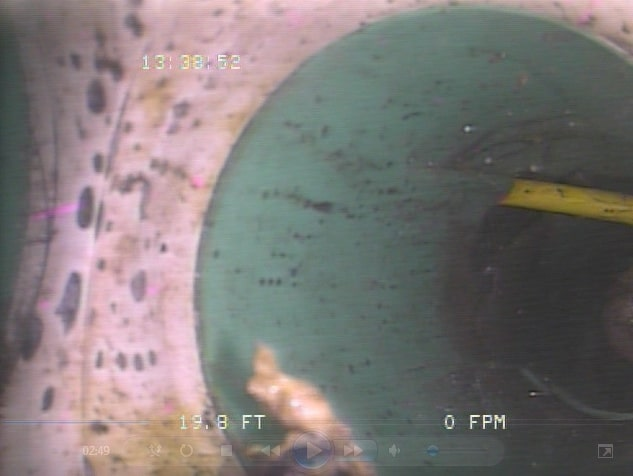cb: (473, 161, 633, 242)
